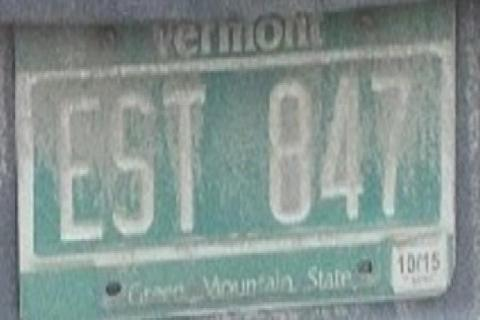LicensePlate: (2, 0, 480, 312)
